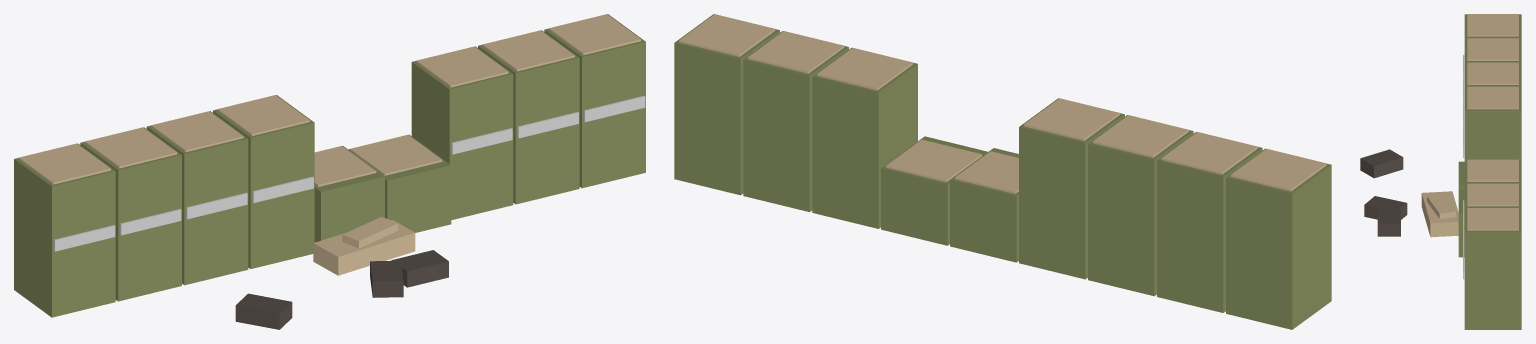
File: SM_MuroHesco_v0_MallaLimpia_e1_Danado_LOD1.fbx
The picture shows the model from 3 angles, left to right: view 1: azimuth 30°, elevation 25°; view 2: azimuth 150°, elevation 25°; view 3: azimuth 270°, elevation 25°; orthographic projection. The views are drawn at different scales.
Parts seen in each view (by area): view 1: SM_bloques.muro_hesco_estados_v1_LOD1; view 2: SM_bloques.muro_hesco_estados_v1_LOD1; view 3: SM_bloques.muro_hesco_estados_v1_LOD1.
Part boxes in pixels (<box>): SM_bloques.muro_hesco_estados_v1_LOD1: <box>14,14,645,329</box>; SM_bloques.muro_hesco_estados_v1_LOD1: <box>674,14,1331,329</box>; SM_bloques.muro_hesco_estados_v1_LOD1: <box>1360,14,1521,329</box>.
Bounding box in the file's own units: 9.96 × 2.13 × 3.12.
